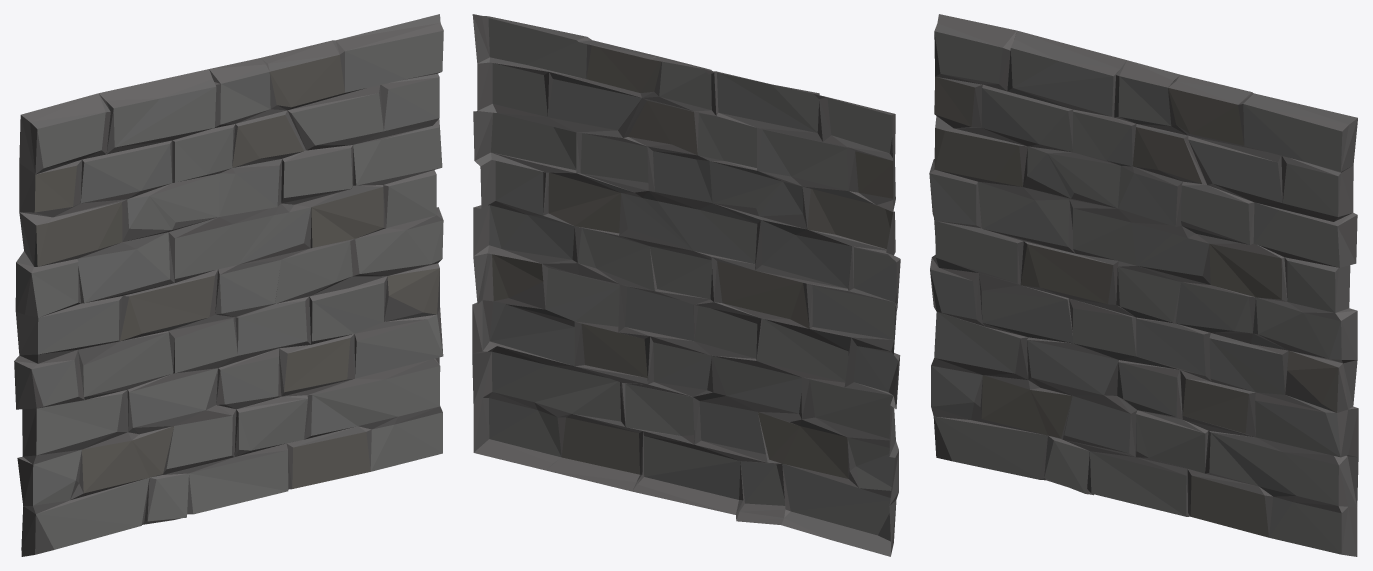
File: SM_Env_Wall_Culled_01.FBX
3 views of the same model, side by side, from view 1: azimuth 30°, elevation 25°; view 2: azimuth 150°, elevation 25°; view 3: azimuth 330°, elevation 25° (orthographic).
Visible parts, largest first — view 1: SM_Env_Wall_Culled_01; view 2: SM_Env_Wall_Culled_01; view 3: SM_Env_Wall_Culled_01.
Part boxes in pixels (x1,y1,x2,y2): SM_Env_Wall_Culled_01: [14, 14, 443, 556]; SM_Env_Wall_Culled_01: [472, 14, 900, 556]; SM_Env_Wall_Culled_01: [929, 14, 1358, 556].
Size of what is drawn, in the model's own units: 524 by 24.93 by 524.
